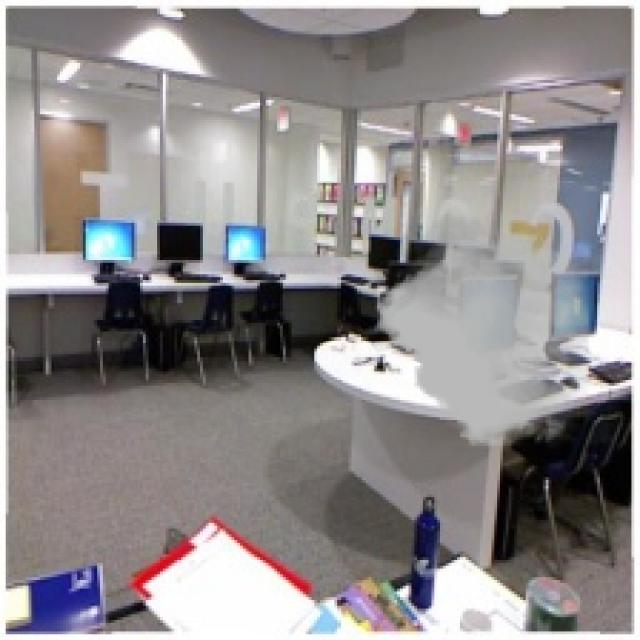smoke: (377, 208, 589, 452)
